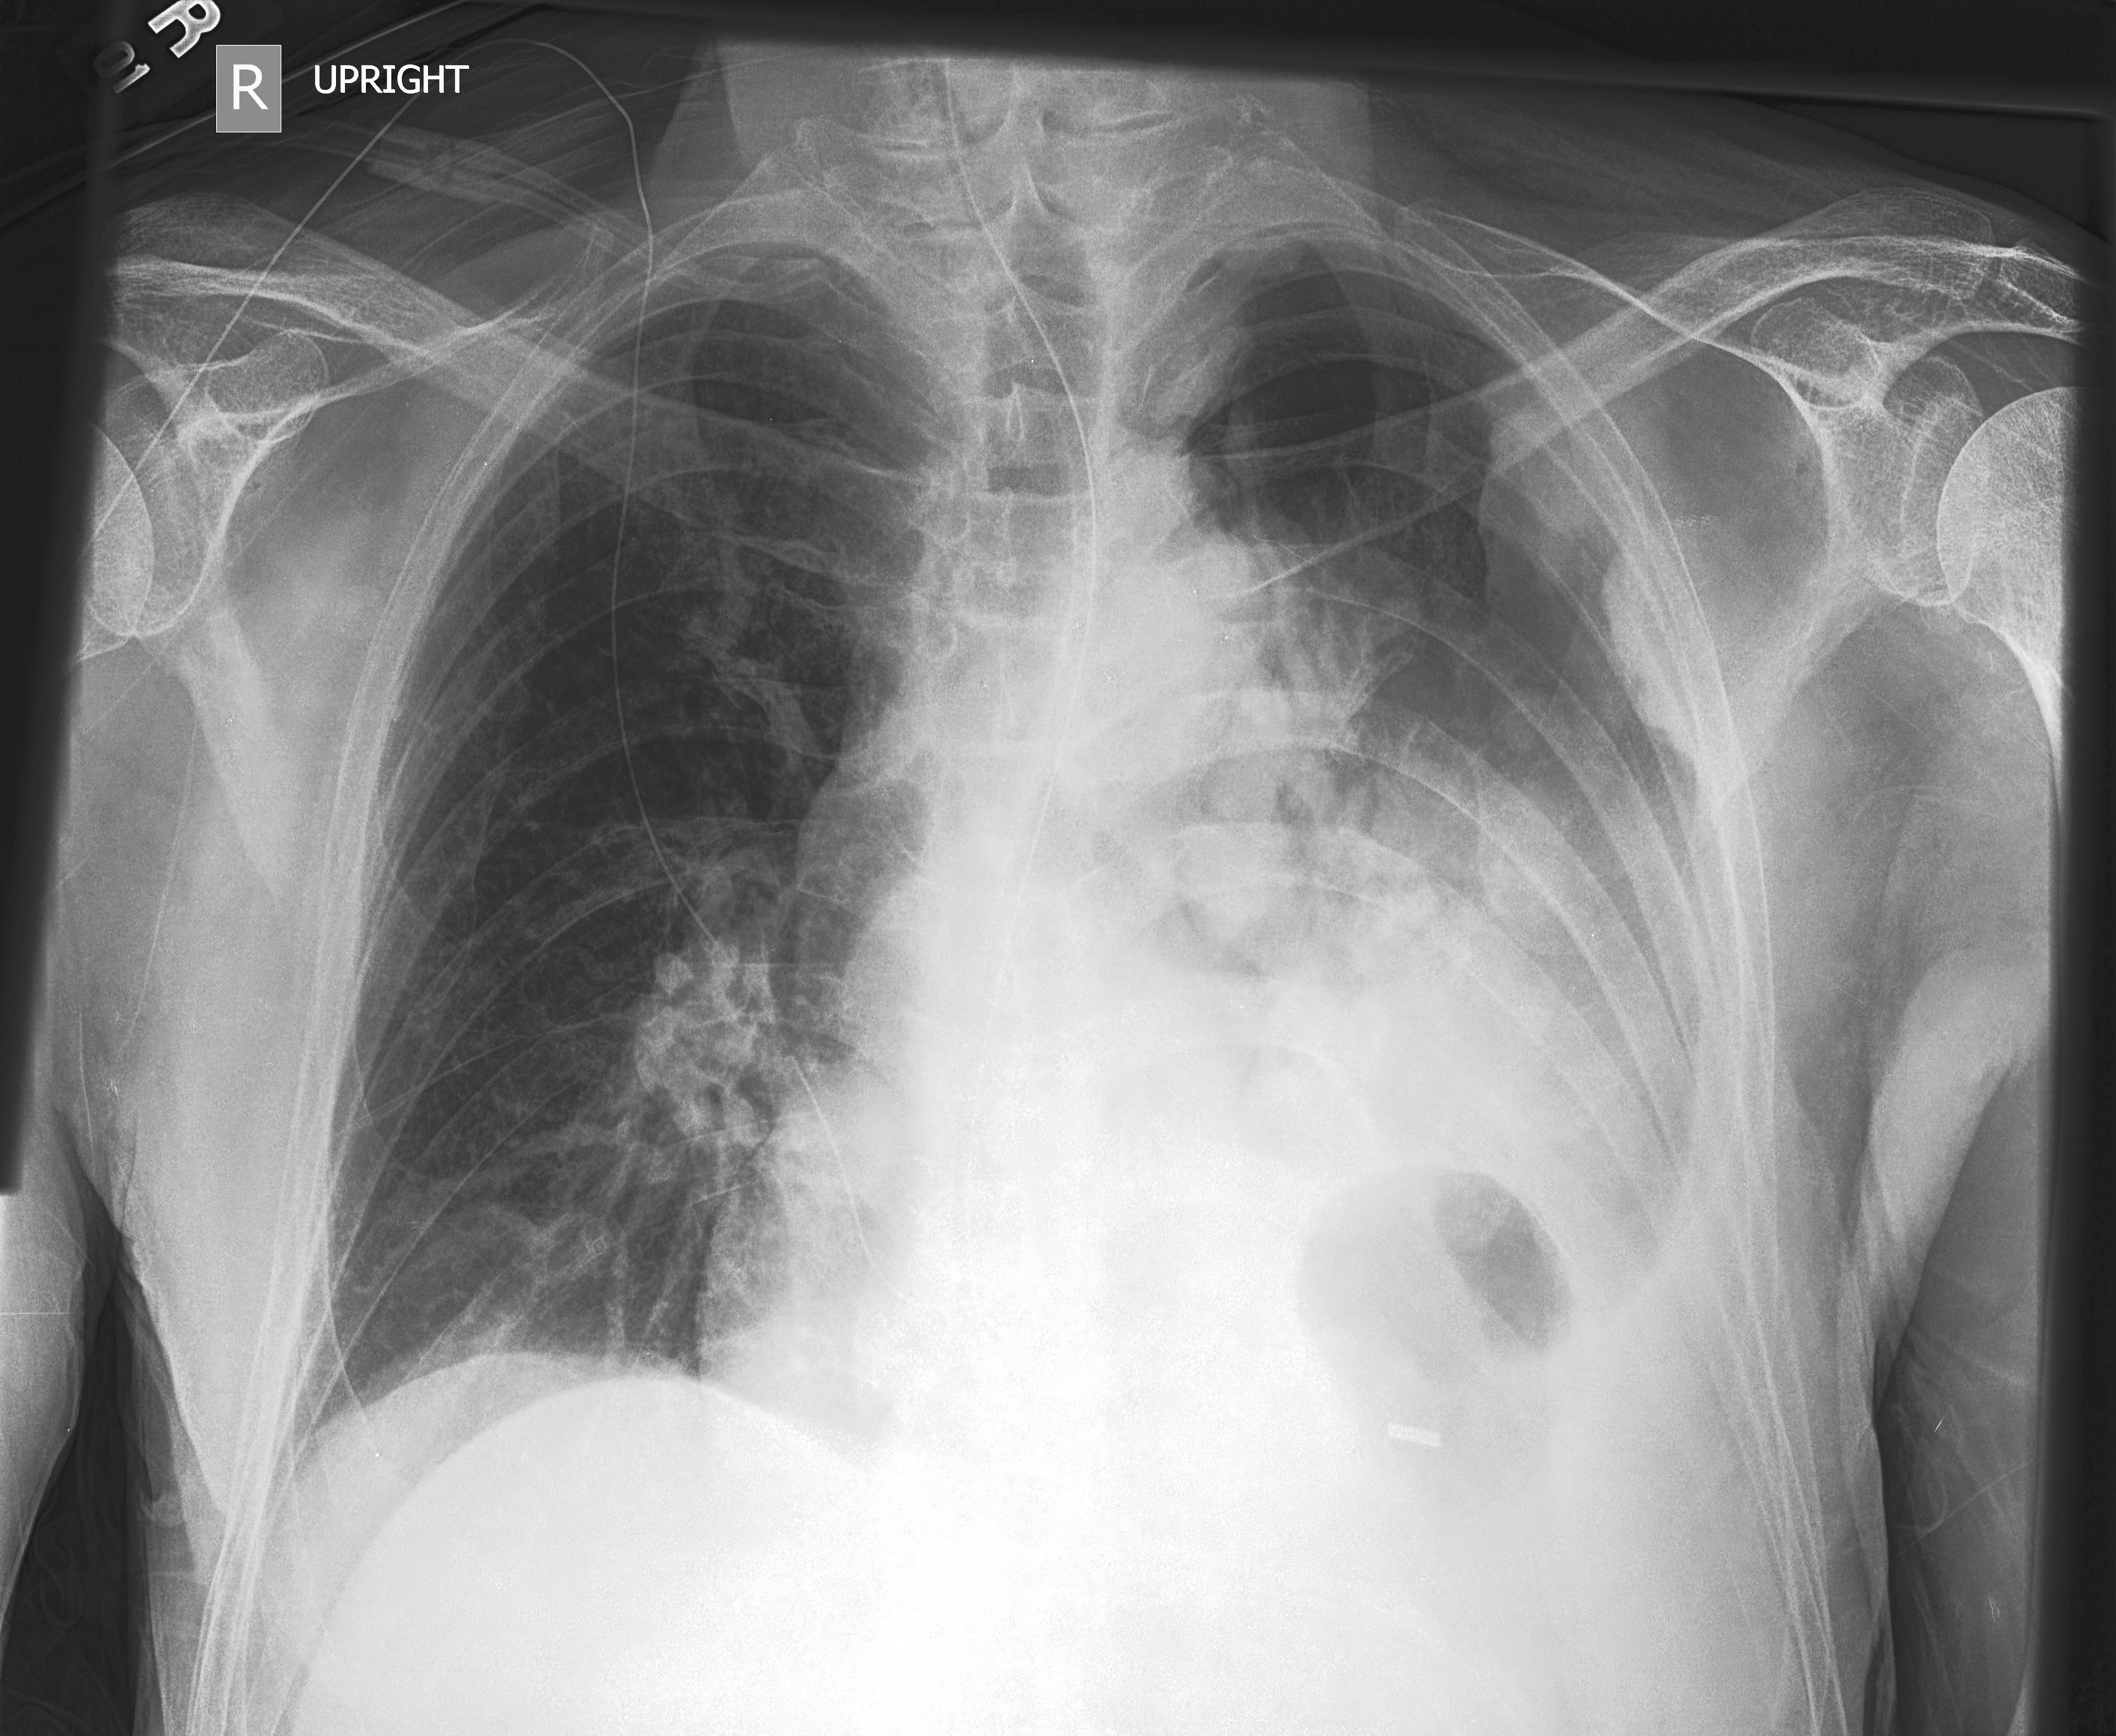Pleural Effusion: (1339, 866, 1828, 1446)
